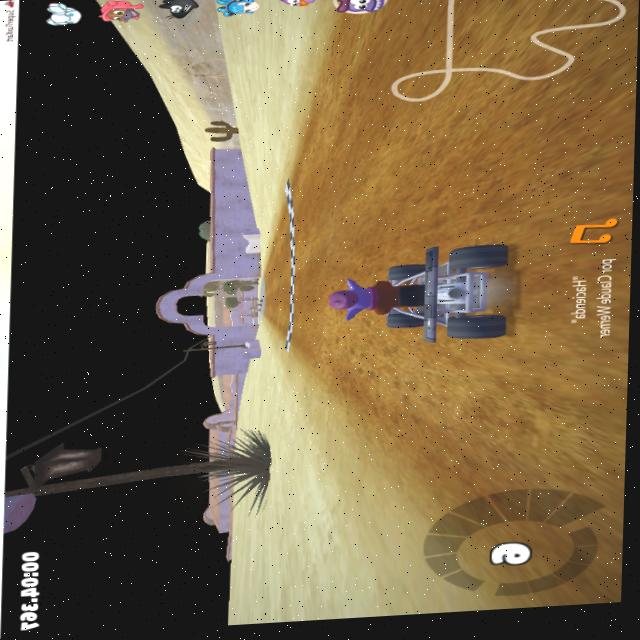player_kart: (332, 241, 527, 347)
track: (511, 234, 628, 609), (477, 0, 640, 242), (337, 0, 485, 250), (358, 339, 526, 477), (411, 470, 520, 531), (289, 158, 337, 271), (266, 271, 334, 345), (292, 343, 359, 401), (305, 92, 340, 160), (273, 223, 292, 274), (254, 281, 277, 320), (262, 257, 277, 277)
